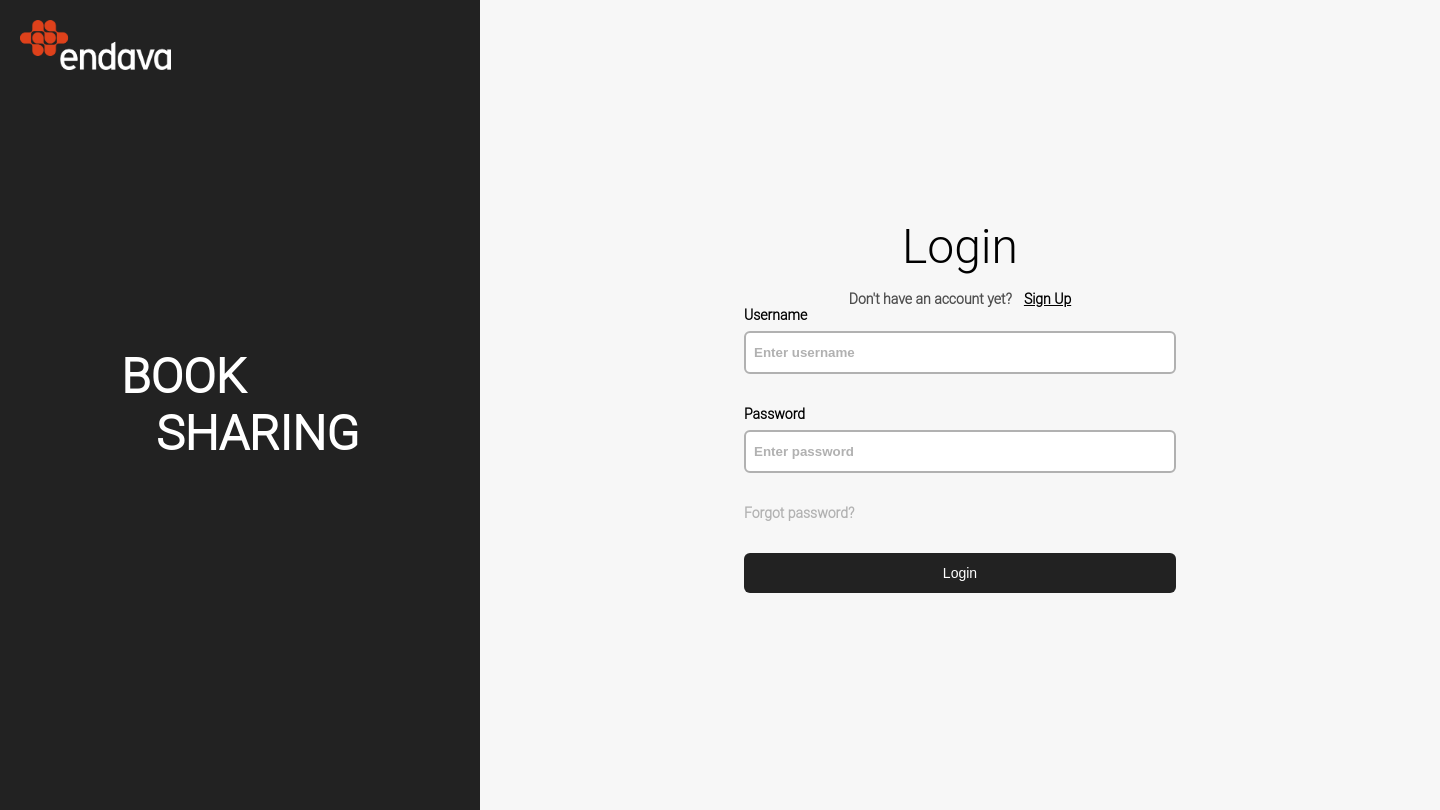
Login › Should invalidate when no inputs provided
What coordinates should you click on to do the following:
click the button with test id "submit-button"
I would click on:
 (960, 572)
Its box is [744,552,1176,592].
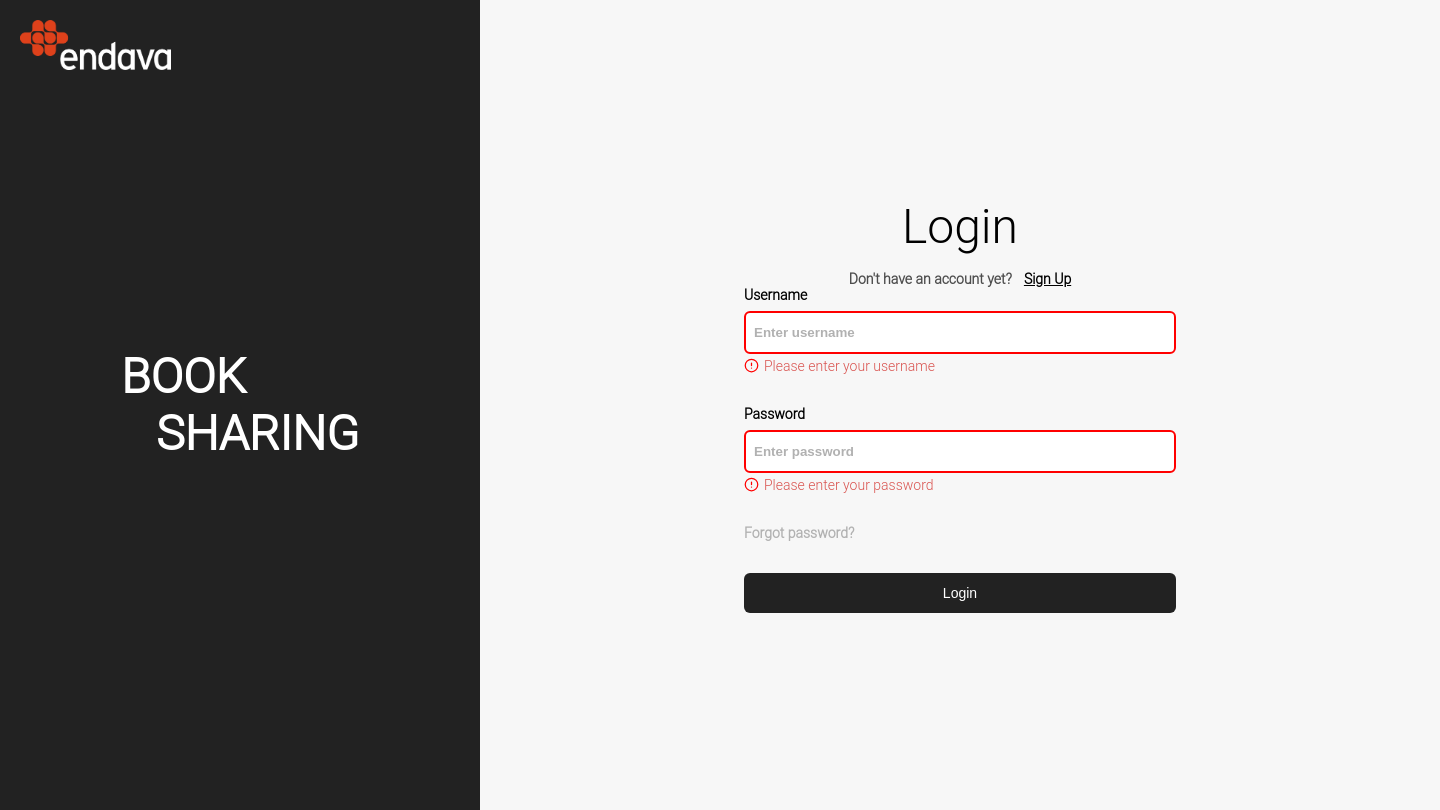
Check: the element showing "Please enter your username" is shown, box [744,358,935,374]
Check: the text "Please enter your password" is shown, box [744,476,934,492]
